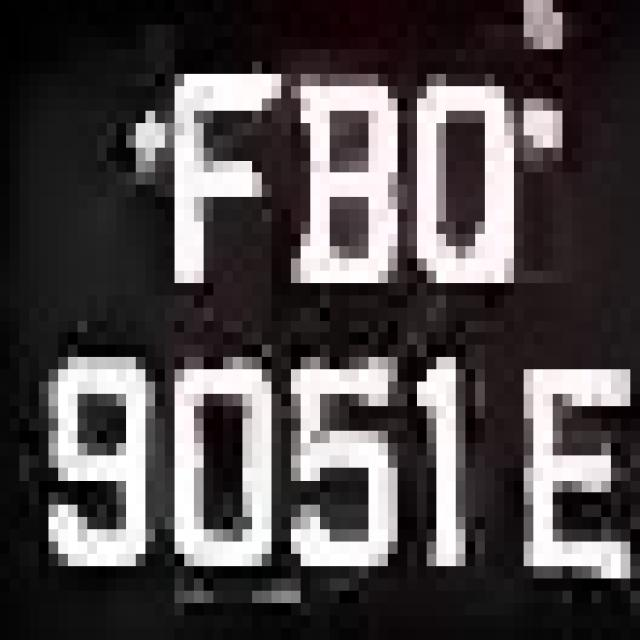0: (146, 320, 272, 578)
1: (397, 308, 485, 566)
5: (281, 308, 398, 590)
9: (20, 295, 146, 591)
B: (252, 62, 398, 296)
E: (514, 295, 621, 603)
F: (136, 49, 262, 308)
Q: (407, 62, 524, 296)
